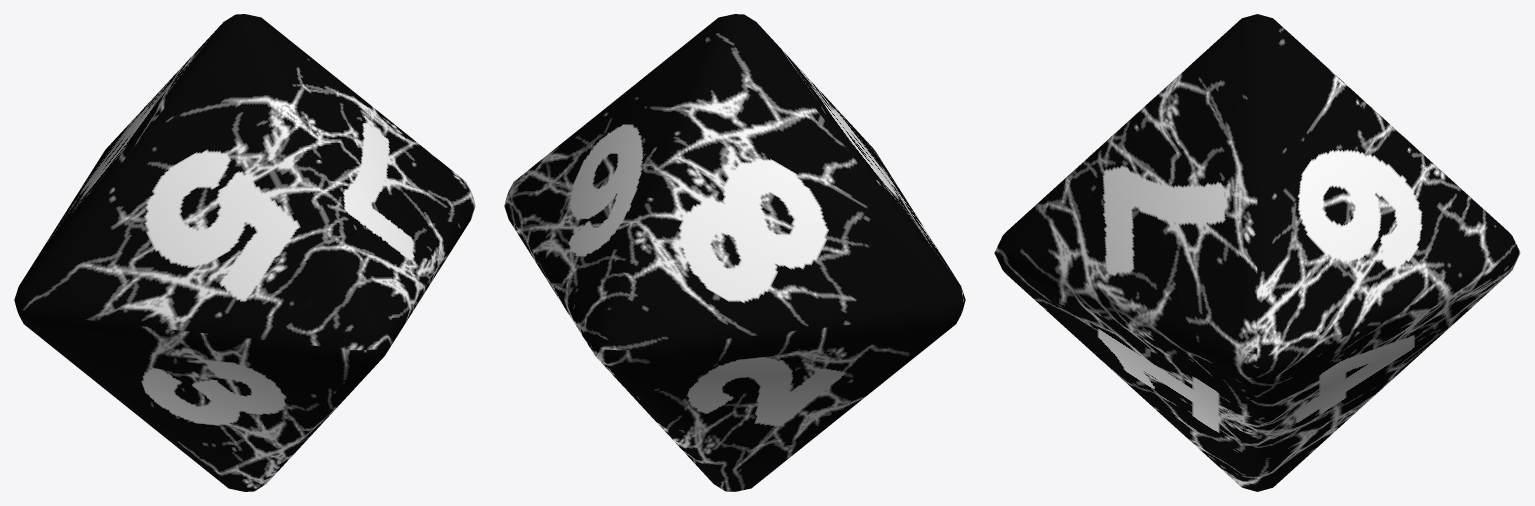
3 views of the same model, side by side, from view 1: azimuth 30°, elevation 25°; view 2: azimuth 150°, elevation 25°; view 3: azimuth 270°, elevation 25° (orthographic).
Parts seen in each view (by area): view 1: 8white_8White_0; view 2: 8white_8White_0; view 3: 8white_8White_0.
Boxes of the visible parts, x1,y1,x2,y2 form: 8white_8White_0: (14,14,475,491); 8white_8White_0: (504,14,965,491); 8white_8White_0: (994,14,1520,491).
Bounding box in the file's own units: 1.86 × 1.86 × 1.86.
1 material, 1 textured.
